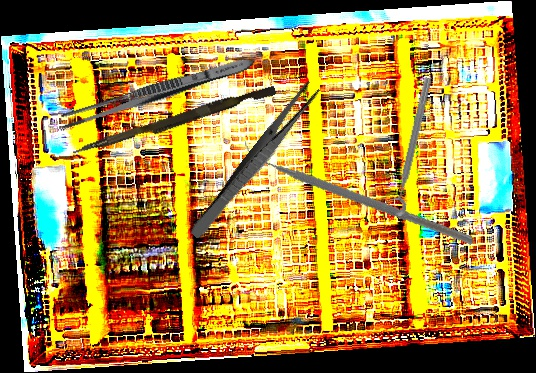Chopper: (243, 96, 474, 284)
Dressing Forceps: (187, 79, 323, 244), (56, 51, 258, 134)
Fixation Ring: (381, 74, 436, 217)
Pusher: (71, 79, 277, 164)
